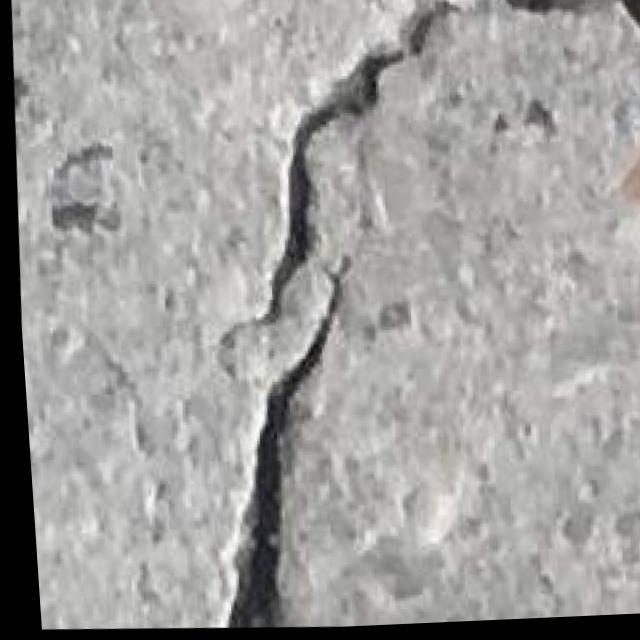Crack: (225, 0, 508, 339), (191, 240, 391, 632)
